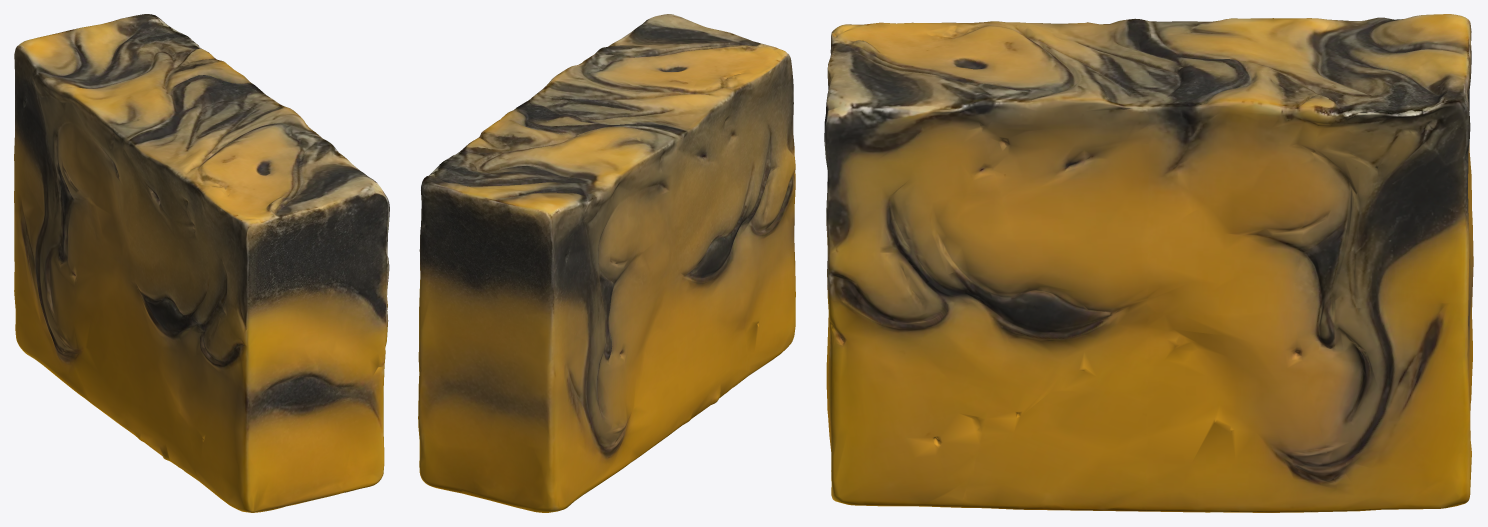
Rendered from charcoal-carrot.glb.
3 renders of one model, left to right at view 1: azimuth 30°, elevation 25°; view 2: azimuth 150°, elevation 25°; view 3: azimuth 270°, elevation 25°, orthographic. The views are drawn at different scales.
Visible parts, largest first — view 1: tripo_node_6849a46e-d037-4f48-98e6-452a2b88da34; view 2: tripo_node_6849a46e-d037-4f48-98e6-452a2b88da34; view 3: tripo_node_6849a46e-d037-4f48-98e6-452a2b88da34.
Part boxes in pixels (x1,y1,x2,y2): tripo_node_6849a46e-d037-4f48-98e6-452a2b88da34: (14,14,389,512); tripo_node_6849a46e-d037-4f48-98e6-452a2b88da34: (418,14,795,512); tripo_node_6849a46e-d037-4f48-98e6-452a2b88da34: (824,14,1473,512).
Size of the model in its own units: 0.3697 by 0.7083 by 0.9995.
1 material, 1 textured.
